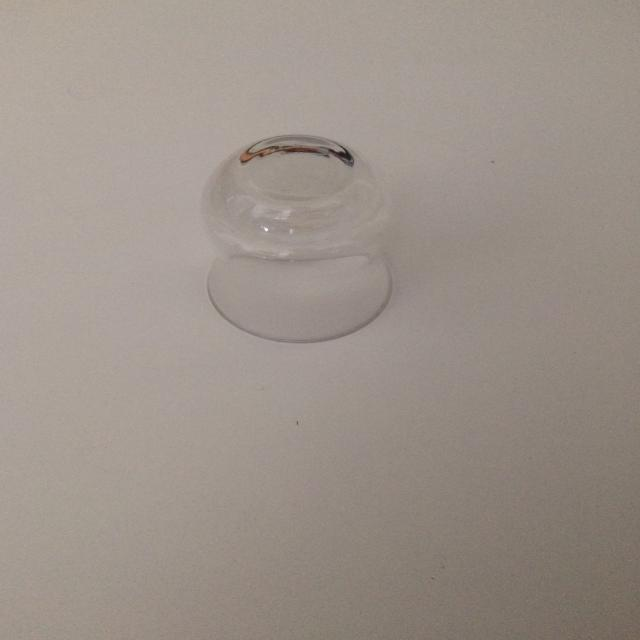glass: (201, 133, 395, 343)
